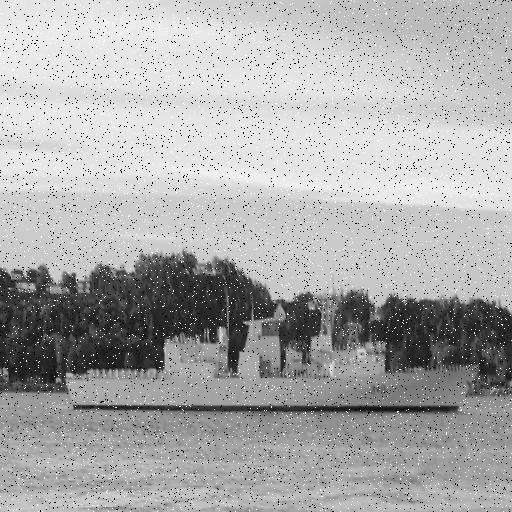Fragata: (62, 257, 486, 419)
